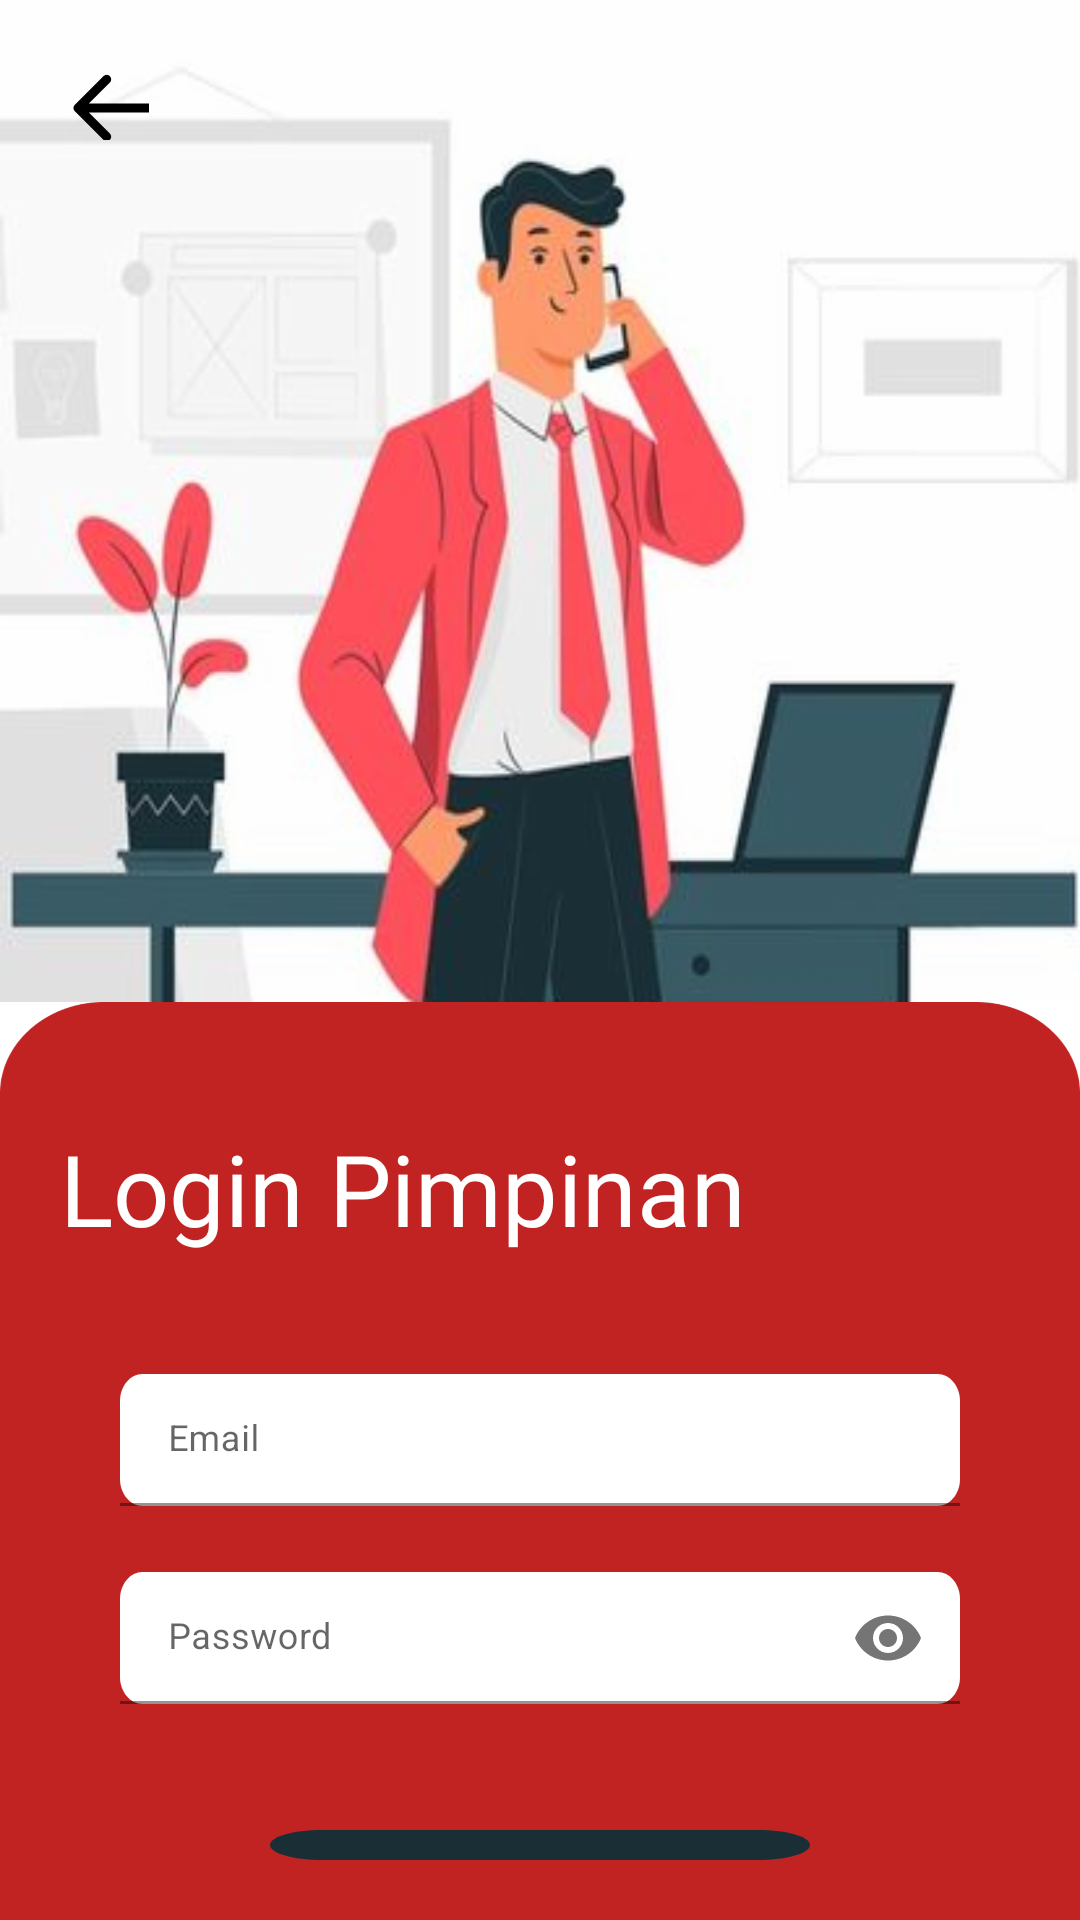

Icon bounding boxes for this 1080*1920 phone screenshot, format [x1,y1,x2,y2]:
back: [72,74,149,140]
